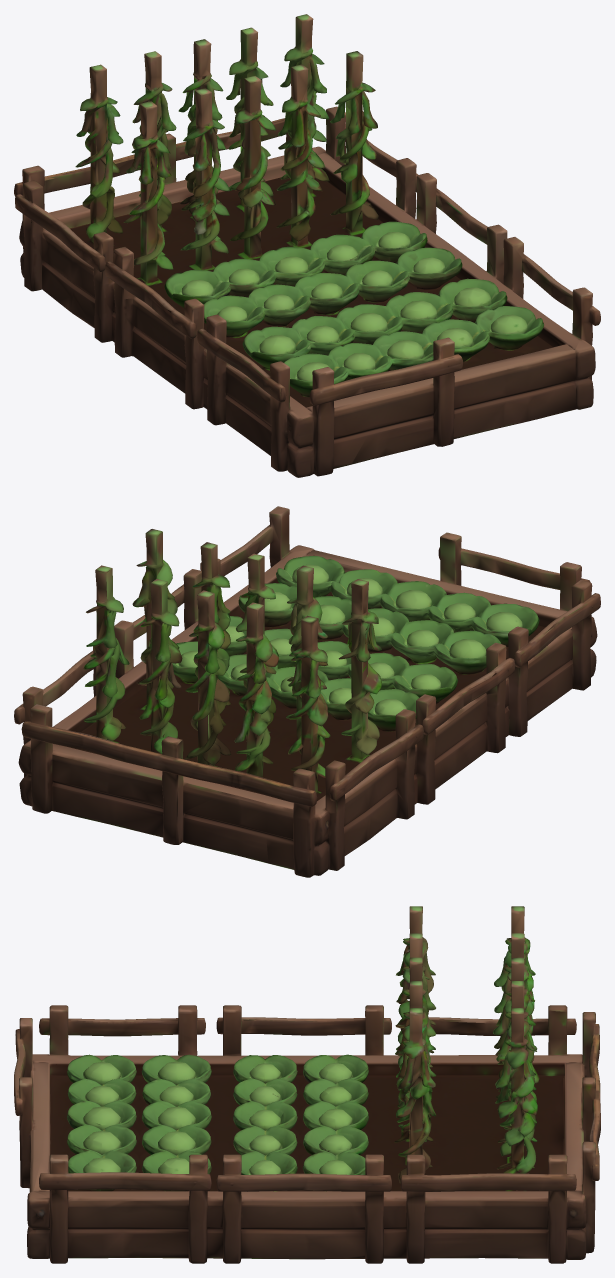
File: garden-bed-a.glb
3 renders of one model, top to bottom at view 1: azimuth 30°, elevation 25°; view 2: azimuth 150°, elevation 25°; view 3: azimuth 270°, elevation 25°, orthographic.
Parts seen in each view (by area): view 1: node_0; view 2: node_0; view 3: node_0.
Part boxes in pixels (<box>): node_0: <box>14,14,600,477</box>; node_0: <box>14,506,600,877</box>; node_0: <box>14,906,600,1263</box>.
Bounding box in the file's own units: 0.6494 × 0.4237 × 0.9961.
1 material, 1 textured.
